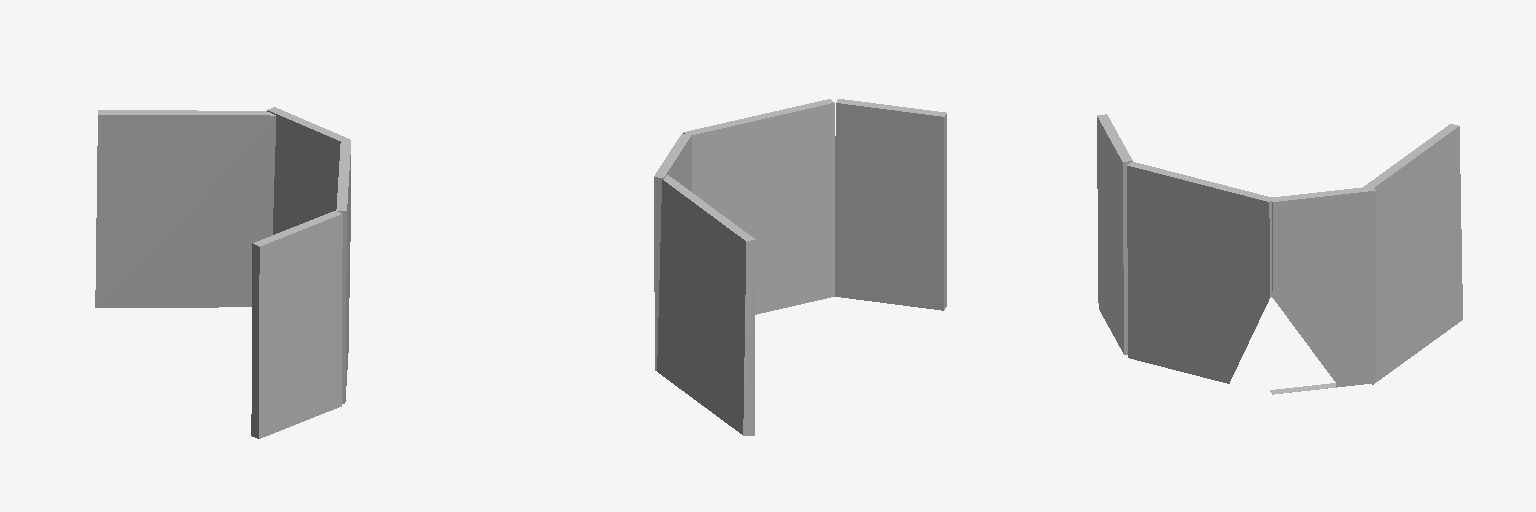
The model's file is back_walls.obj.
The picture shows the model from 3 angles: view 1: azimuth 30°, elevation 25°; view 2: azimuth 150°, elevation 25°; view 3: azimuth 270°, elevation 25°; orthographic projection.
Parts seen in each view (by area): view 1: Wall; view 2: Wall; view 3: Wall.
Boxes of the visible parts, <box> form: Wall: <box>95,107,350,438</box>; Wall: <box>654,99,946,435</box>; Wall: <box>1097,114,1462,394</box>.
Size of the model in its own units: 11.72 by 12.16 by 20.62.